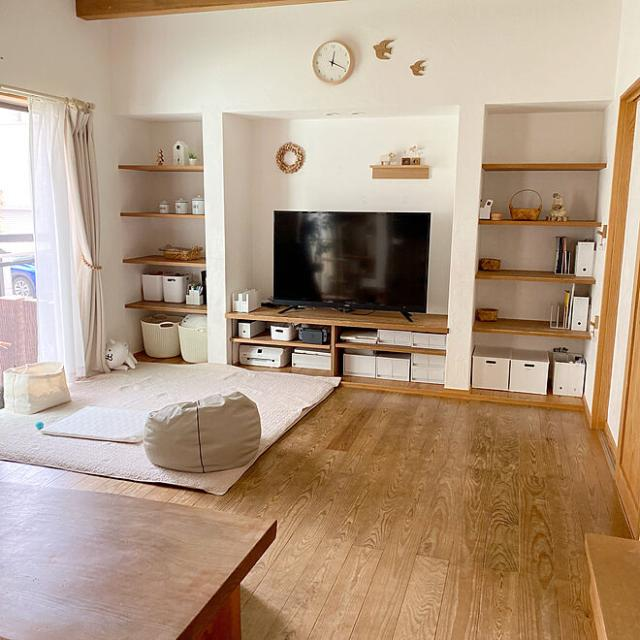natural shelf: (483, 110, 596, 414), (114, 146, 209, 362)
